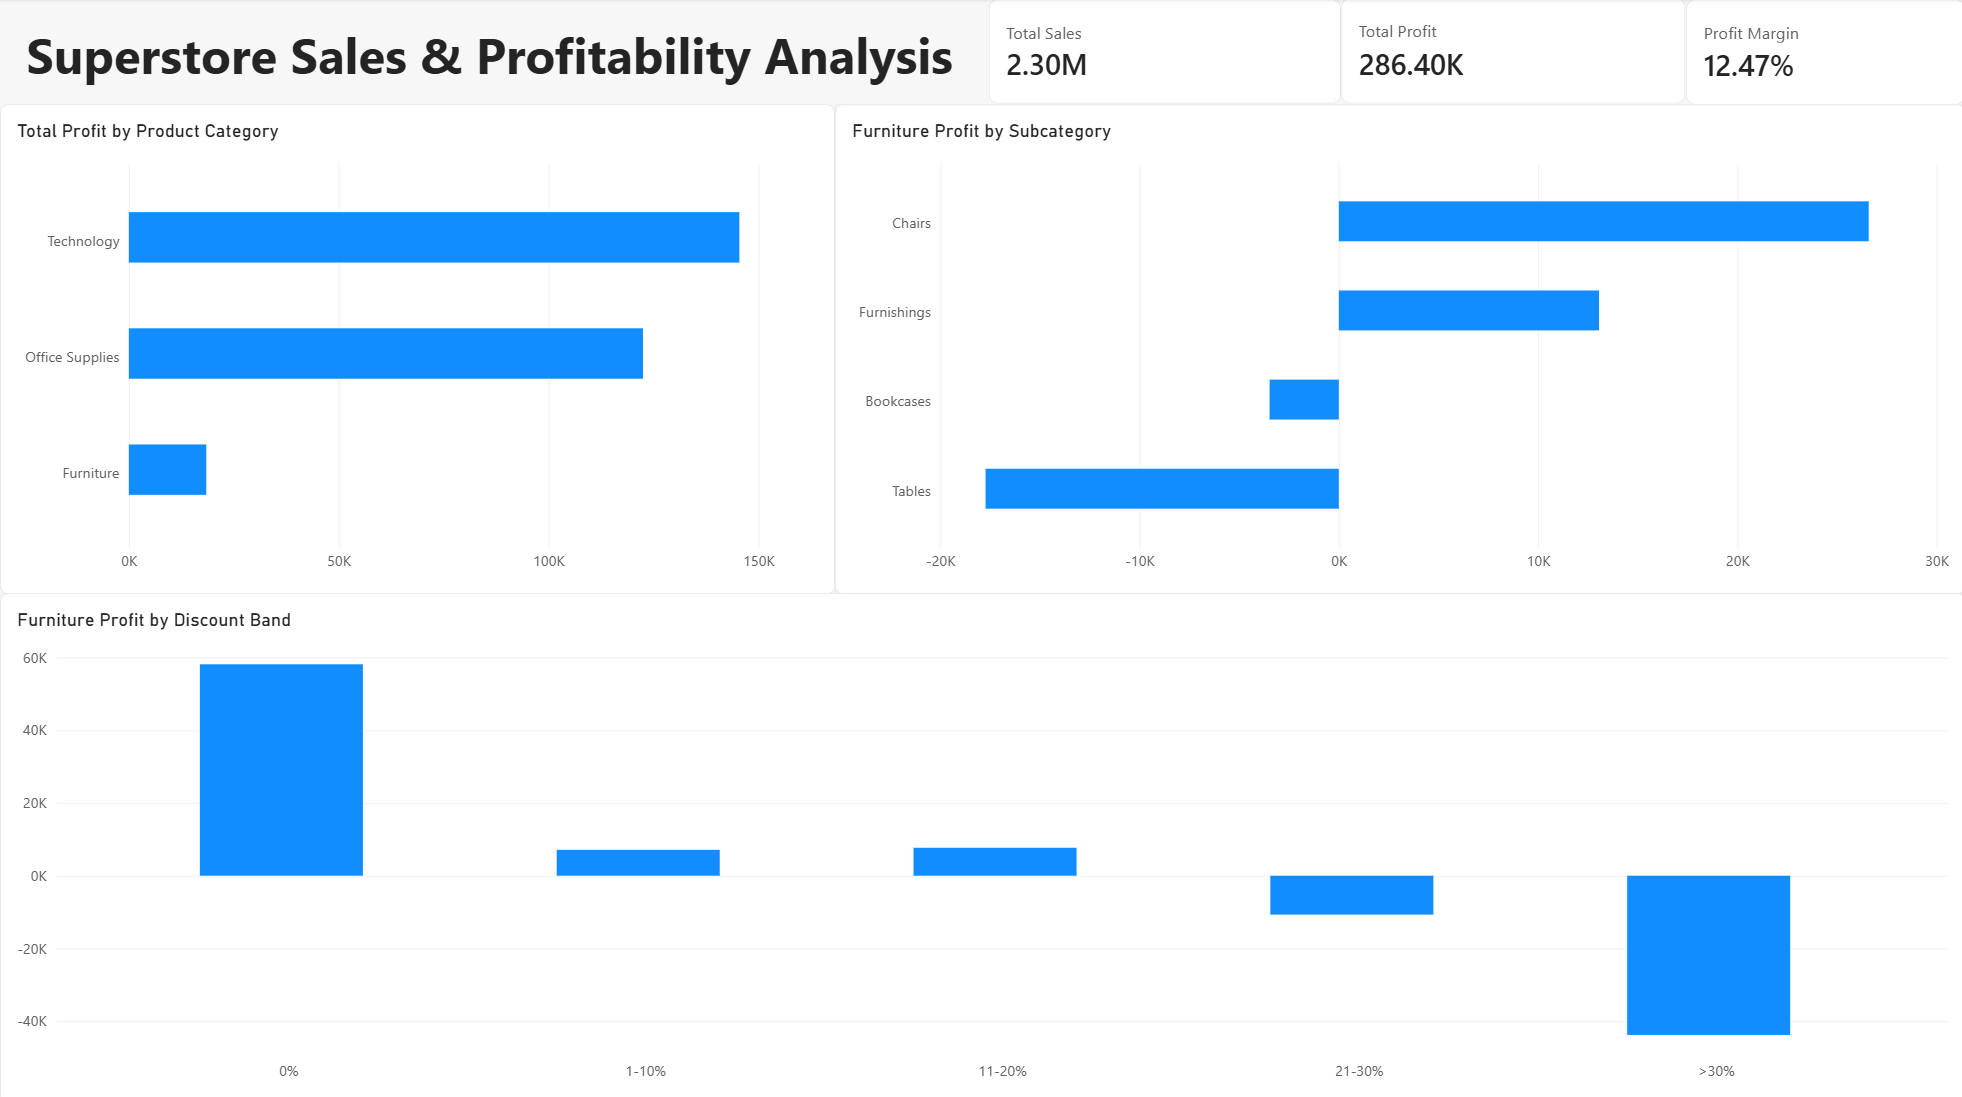

The page's visual inventory and layout, read from the dashboard file:
{"tool":"powerbi","page":{"name":"Page 1","canvas":[1920,1080],"ordinal":0},"visuals":[{"type":"clusteredBarChart","title":"Total Profit by Product Category","fields":{"Category":["Sample - Superstore 1(in).Category"],"Y":["Sum(Sample - Superstore 1(in).Profit)"]},"box":[0,103.7,814.8,478.1],"z":0},{"type":"clusteredBarChart","title":"Furniture Profit by Subcategory","fields":{"Category":["Sample - Superstore 1(in).Sub-Category"],"Y":["Sum(Sample - Superstore 1(in).Profit)"]},"box":[814.8,103.7,1105,478.1],"z":1},{"type":"clusteredColumnChart","title":"Furniture Profit by Discount Band","fields":{"Category":["Sample - Superstore 1(in).Discount Band"],"Y":["Sum(Sample - Superstore 1(in).Profit)"]},"box":[0,581.5,1919.7,498.4],"z":2},{"type":"cardVisual","title":"Total Sales","fields":{"Data":["Sum(Sample - Superstore 1(in).Sales)"]},"box":[965.2,1.5,344.3,102.2],"z":3},{"type":"cardVisual","fields":{"Data":["Sum(Sample - Superstore 1(in).Profit)"]},"box":[1309.4,0,336.8,103.7],"z":4},{"type":"cardVisual","fields":{"Data":["Sample - Superstore 1(in).Profit Margin"]},"box":[1646.2,1.5,273.6,103.7],"z":5},{"type":"textbox","box":[25.6,22.6,1816.1,377.3],"z":6}]}

Visuals, with their boxes in screenshot pixels (x1, y1, x2, y2), scaled from the page's 1920x1080 canvas onto the 1962x1097 screenshot:
"Total Profit by Product Category" clusteredBarChart: 0 105 833 591
"Furniture Profit by Subcategory" clusteredBarChart: 833 105 1961 591
"Furniture Profit by Discount Band" clusteredColumnChart: 0 591 1961 1096
"Total Sales" cardVisual: 986 2 1338 105
cardVisual - Sum(Sample - Superstore 1(in).Profit): 1338 0 1682 105
cardVisual - Sample - Superstore 1(in).Profit Margin: 1682 2 1961 107
textbox: 26 23 1882 406
